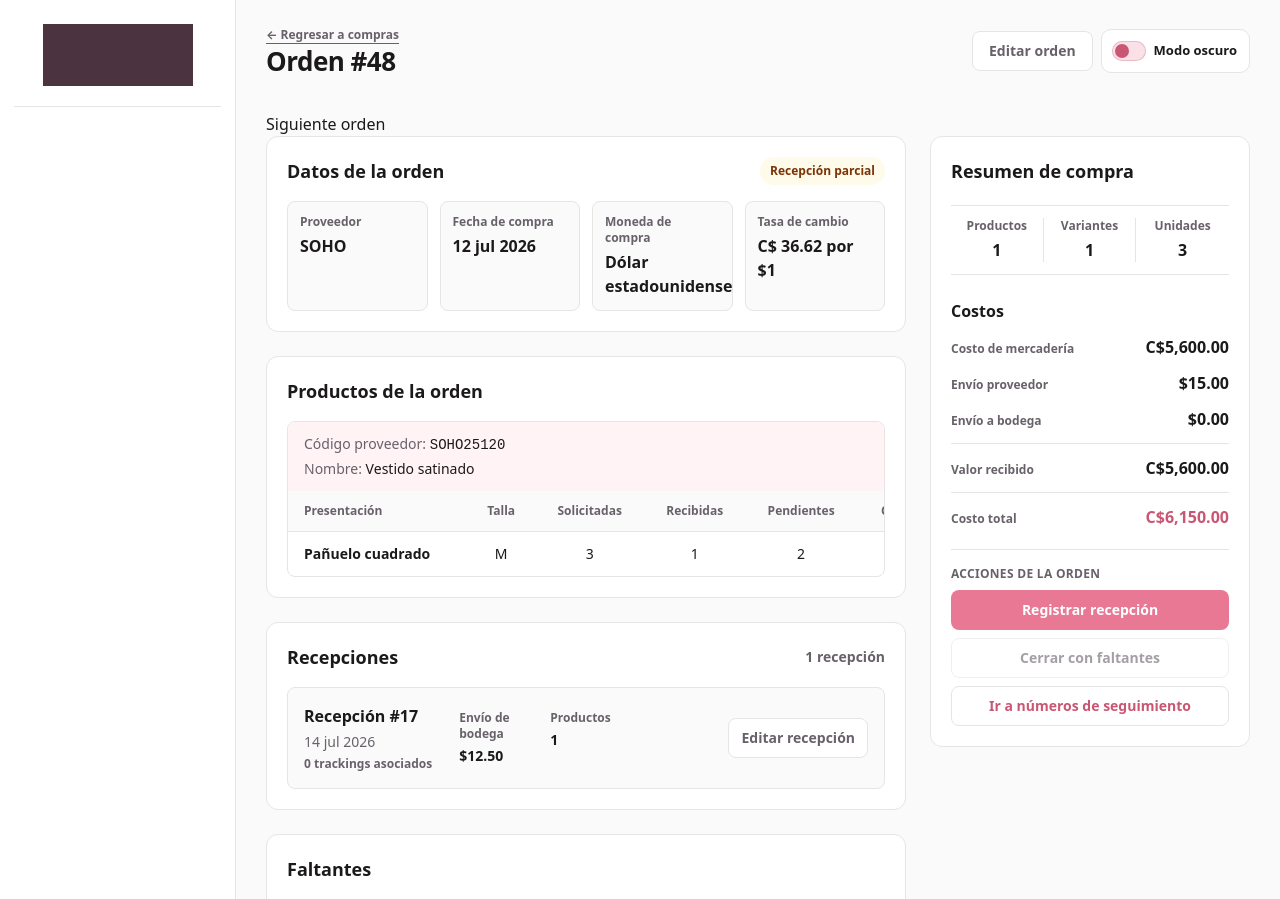
Test: PurchaseOrderDetailPage › limpia el estado de recepción al navegar a otra orden
Step 1. Click the button with aria-label "Editar recepción #17" → (798, 738), box [728, 718, 868, 758]
(page scrolled)
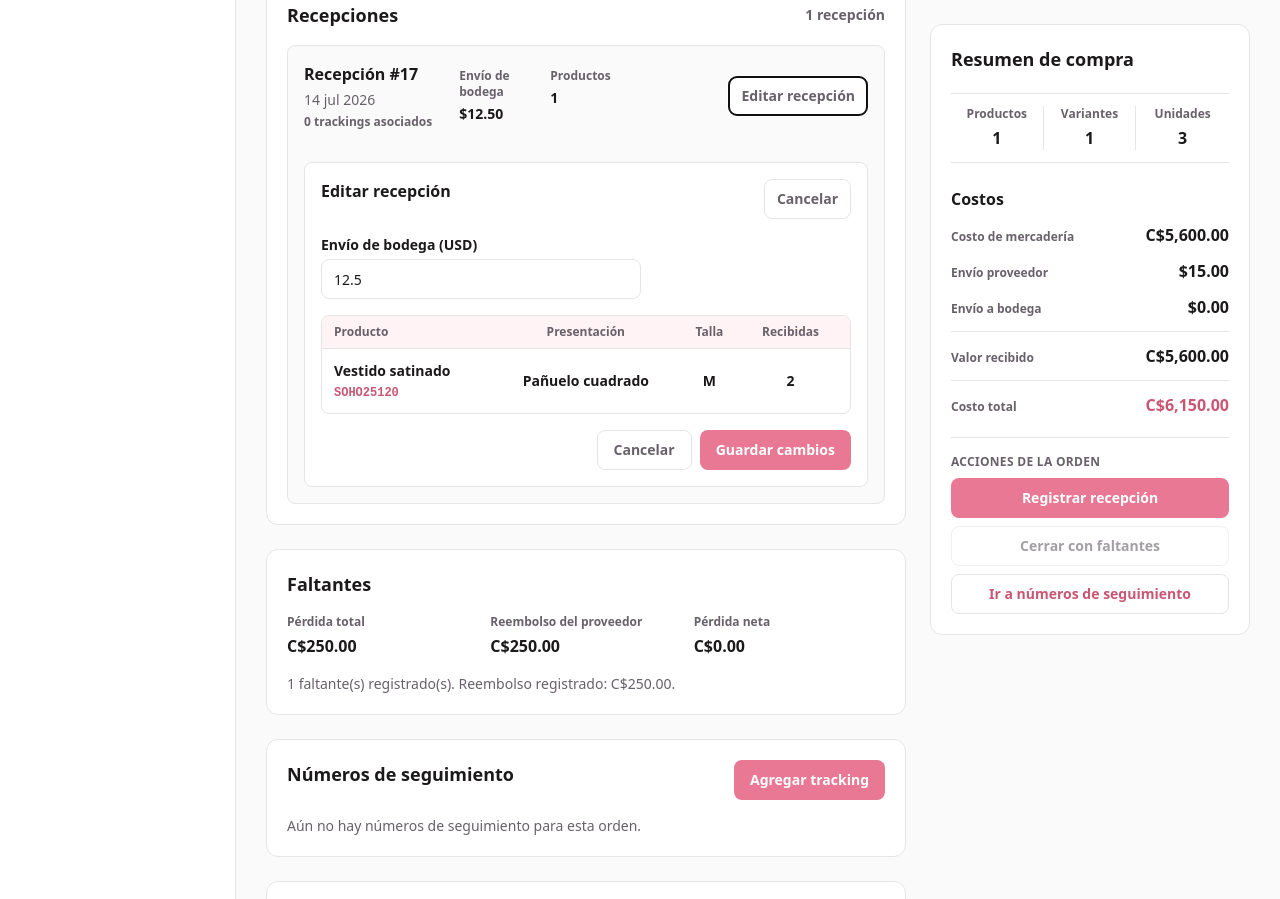
Step 2. Click the button "Guardar cambios" → (775, 450), box [700, 430, 851, 470]
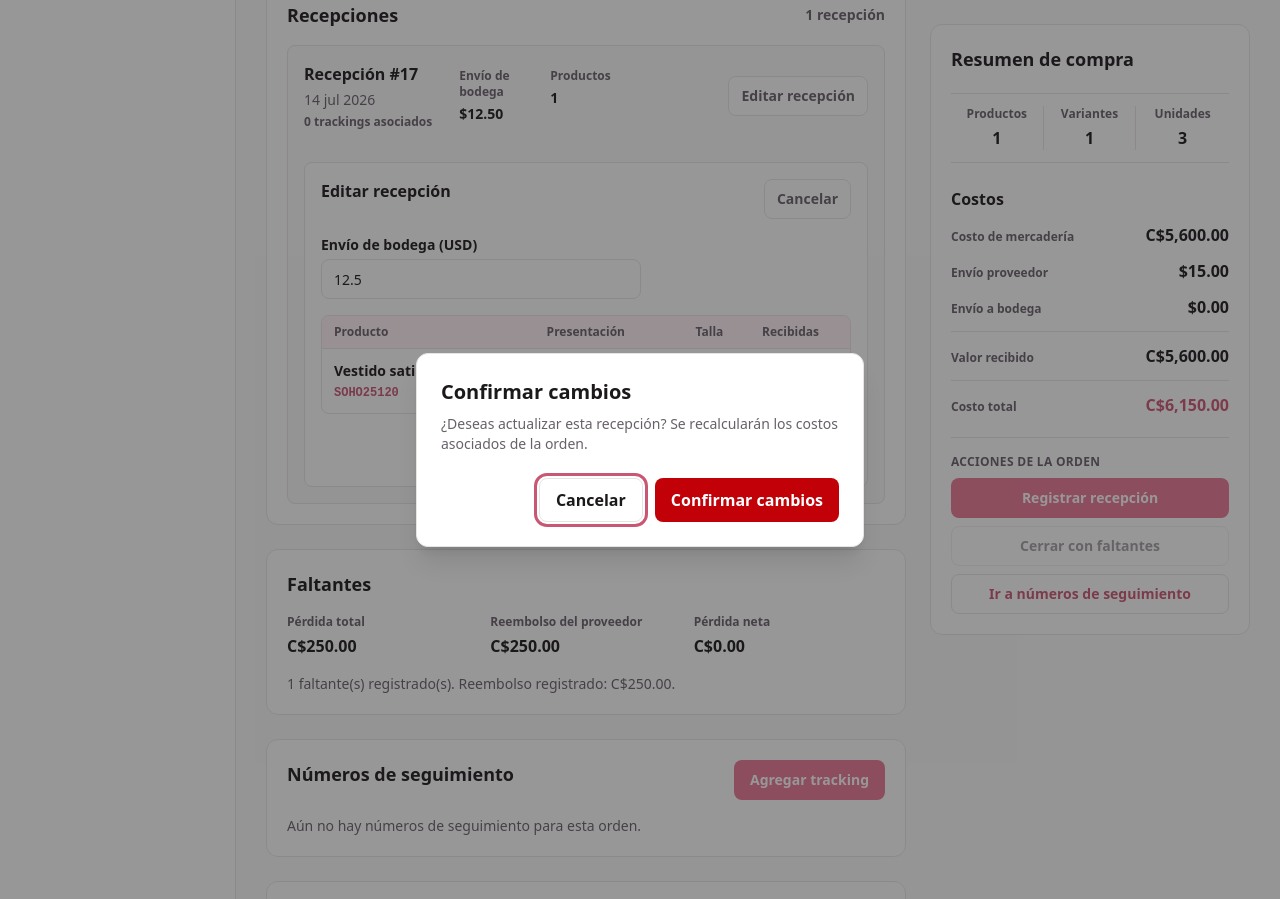
Step 3. Click the button "Confirmar cambios" → (747, 500), box [655, 478, 839, 522]
(page scrolled)
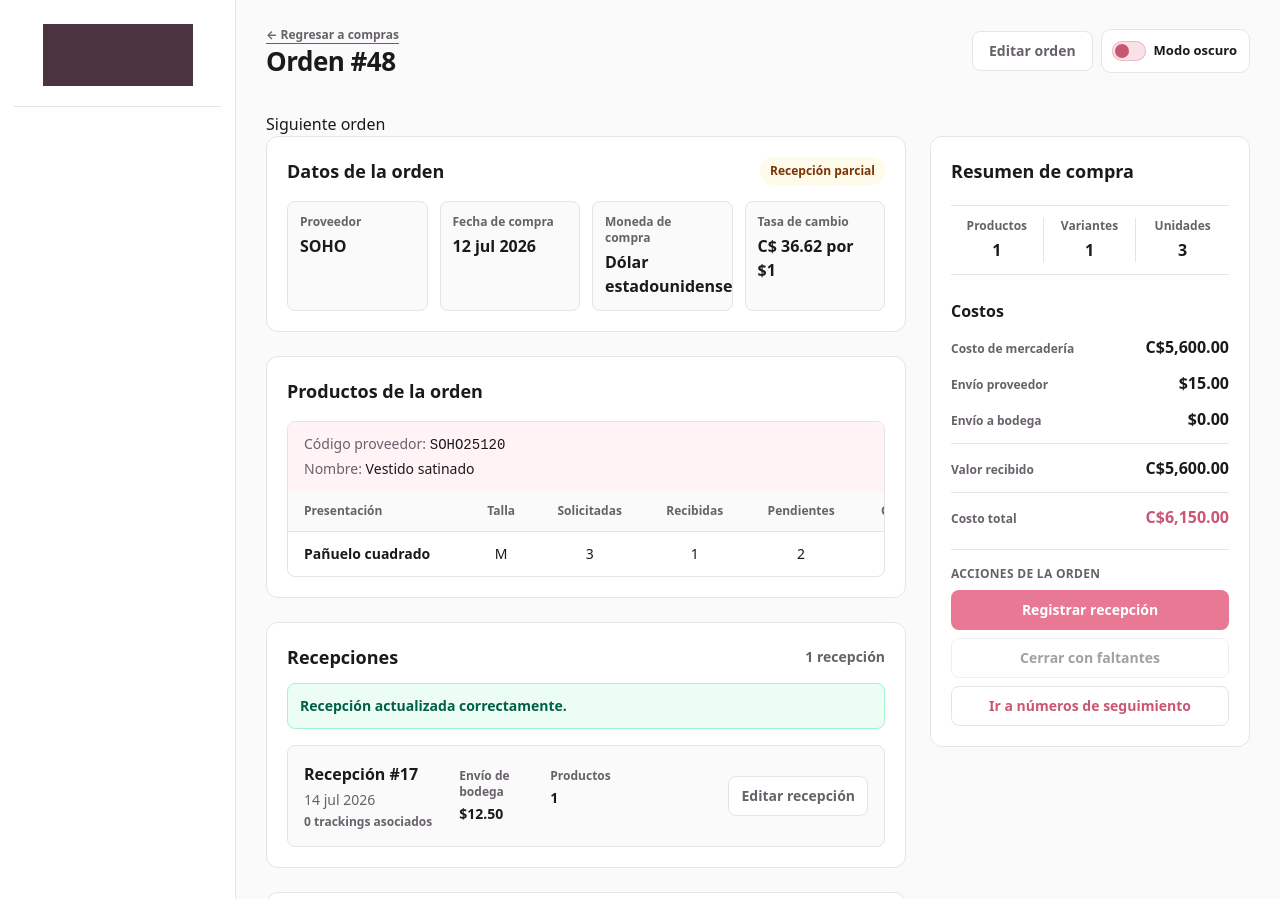
Expected: the text "Recepción actualizada correctamente." is shown, [287, 683, 885, 729]
Step 4. Click the link "Siguiente orden" → (326, 124), box [266, 113, 385, 135]
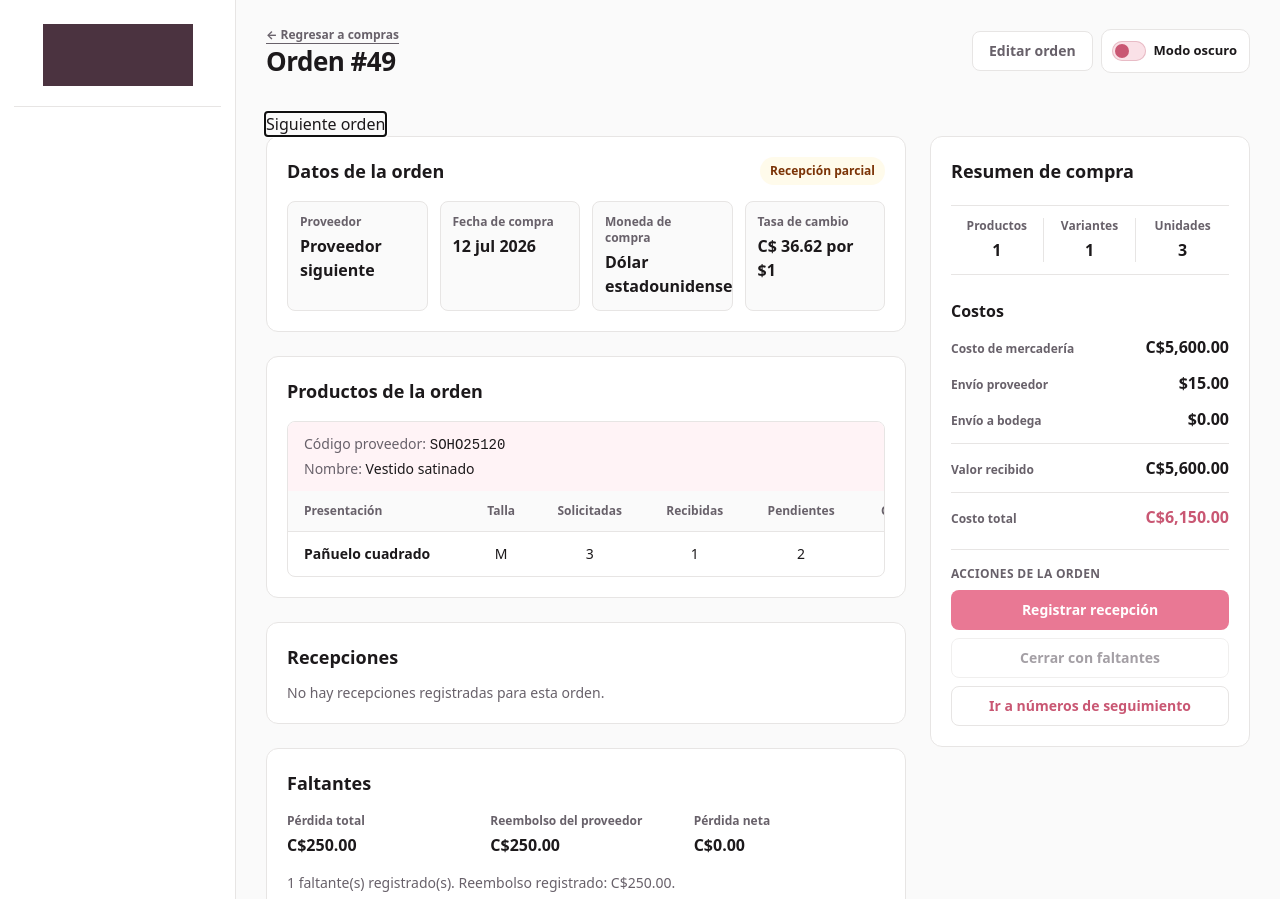
Expected: the heading "Orden #49" is shown, [266, 47, 399, 76]
Expected: the text "Recepción actualizada correctamente." is gone
